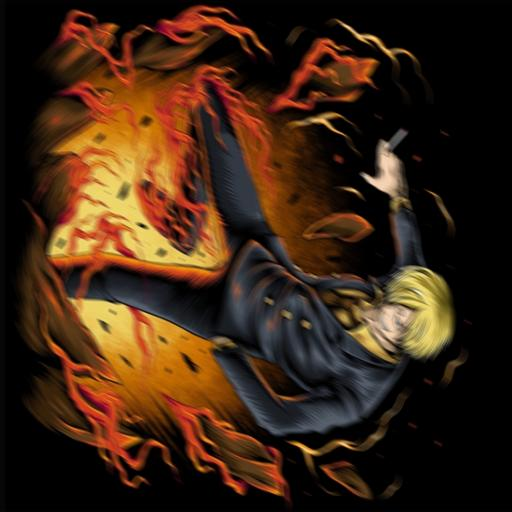sanji: (54, 92, 460, 442)
